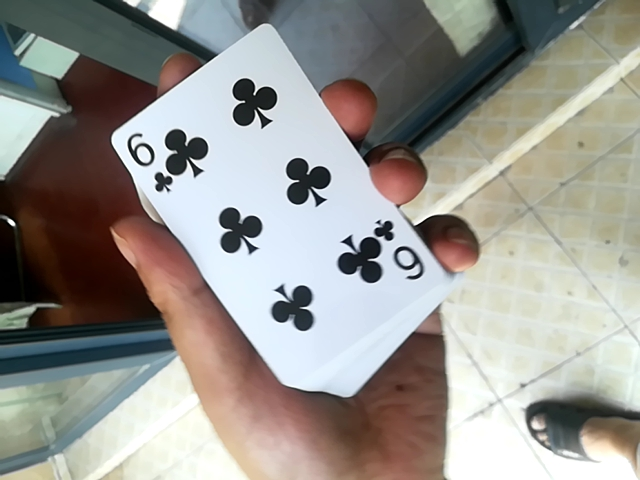mh 6: (101, 14, 435, 394)
